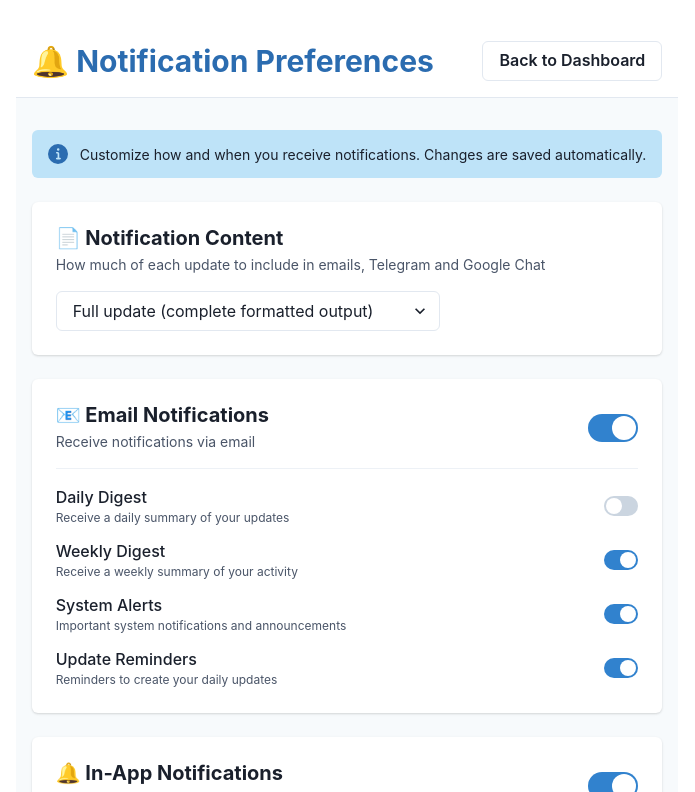
Scenario: NotificationPreferences page › toggles a preference and saves
The image size is (695, 792).
Expected: the heading "📧 Email Notifications" is shown, [56,403,269,427]
// Toggle the first switch (top-level Email Notifications enabled).
What coordinates should you click on to do the following:
click the checkbox in the row of "📧 Email Notifications"
I would click on:
 (613, 428)
Its box is [588,414,638,442].
(page scrolled)
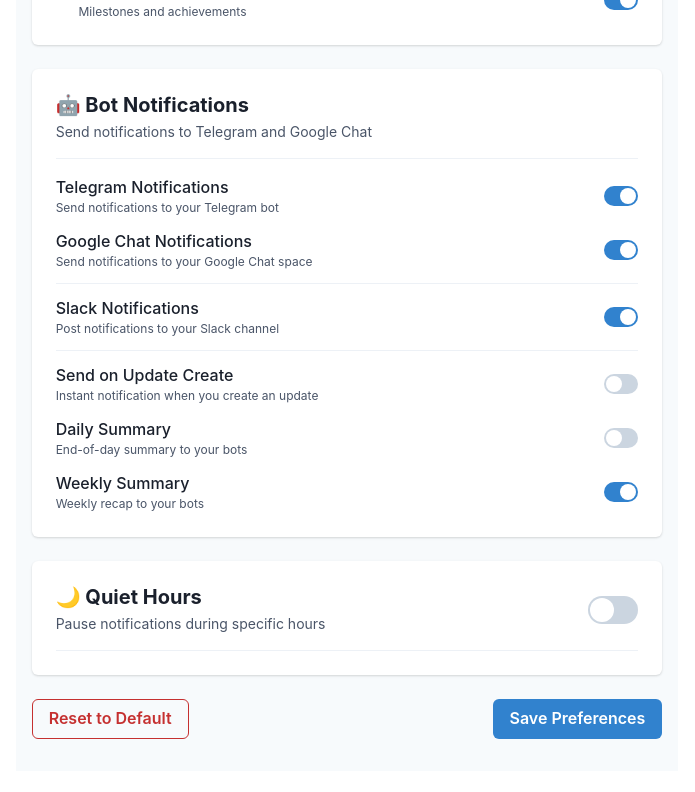
What coordinates should you click on to do the following:
click the button "Save Preferences"
I would click on:
 (577, 719)
Its box is [492,699,662,739].
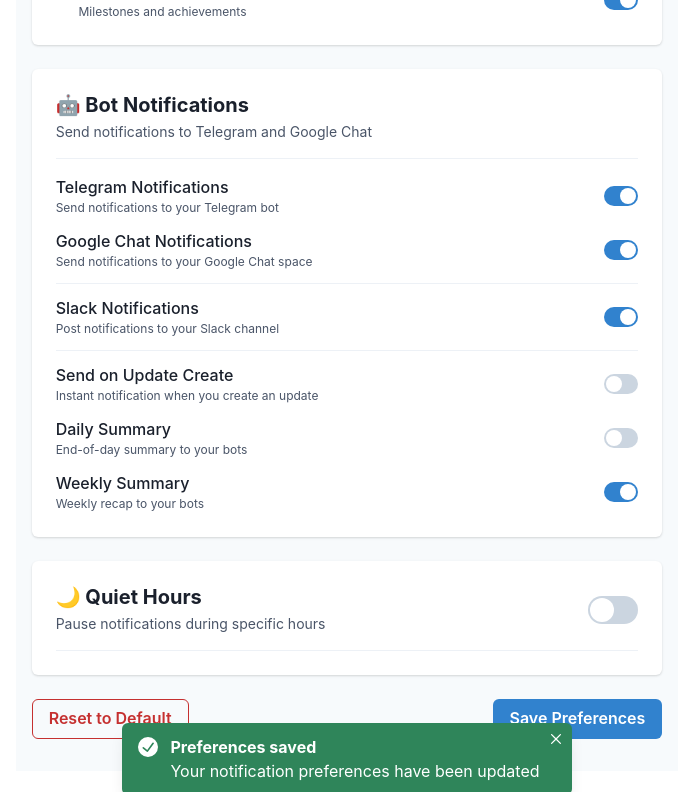
Expected: the text "Preferences saved" is shown, [170,737,316,757]
